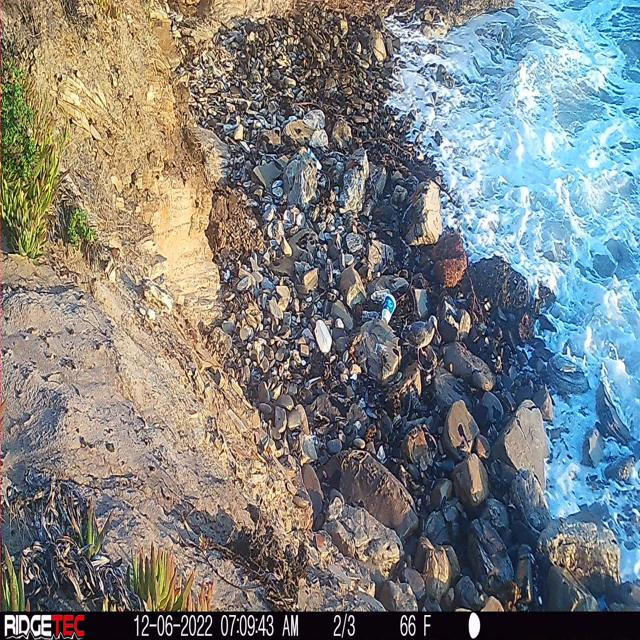bird: (404, 297, 443, 373)
